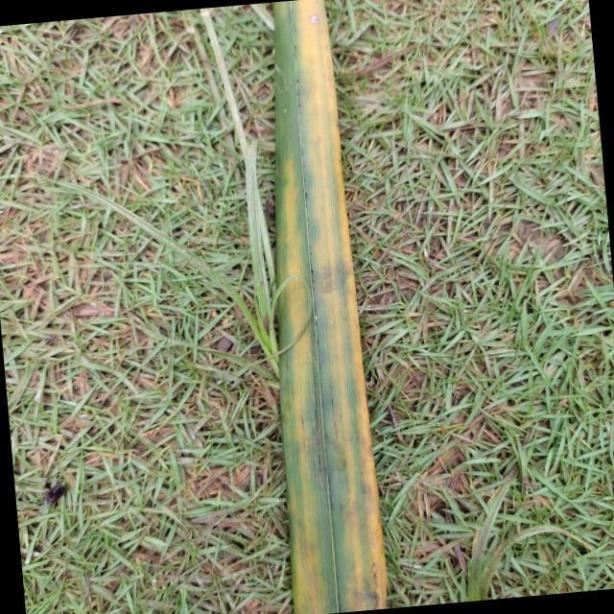Megnesium: (272, 0, 392, 614)
